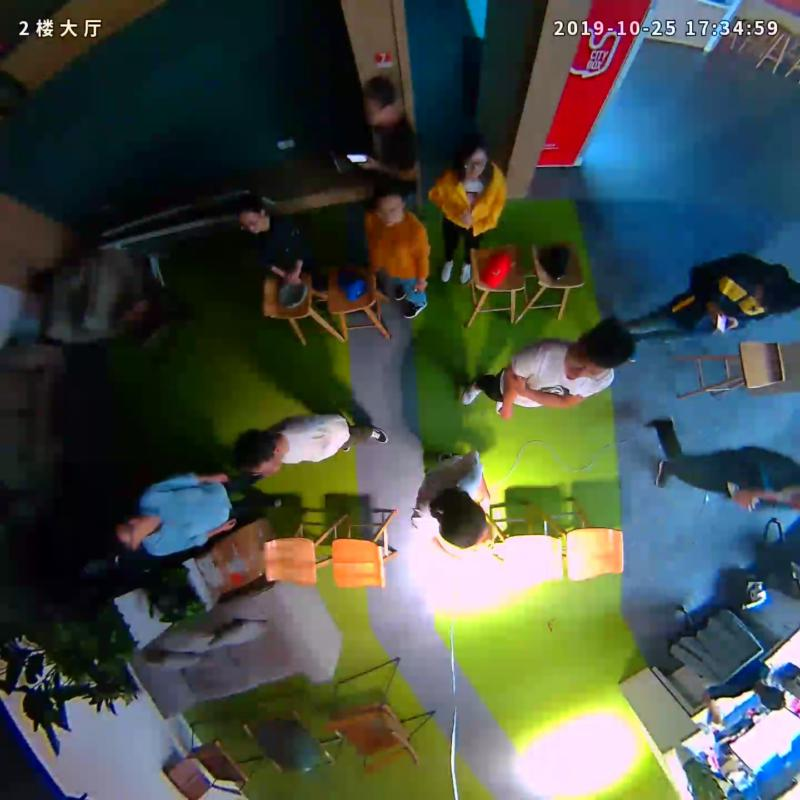head: (566, 317, 634, 378), (232, 426, 282, 478), (436, 498, 487, 548), (753, 275, 800, 319), (360, 76, 399, 126), (371, 176, 406, 228), (104, 516, 146, 554), (459, 136, 491, 182), (236, 192, 266, 233)
